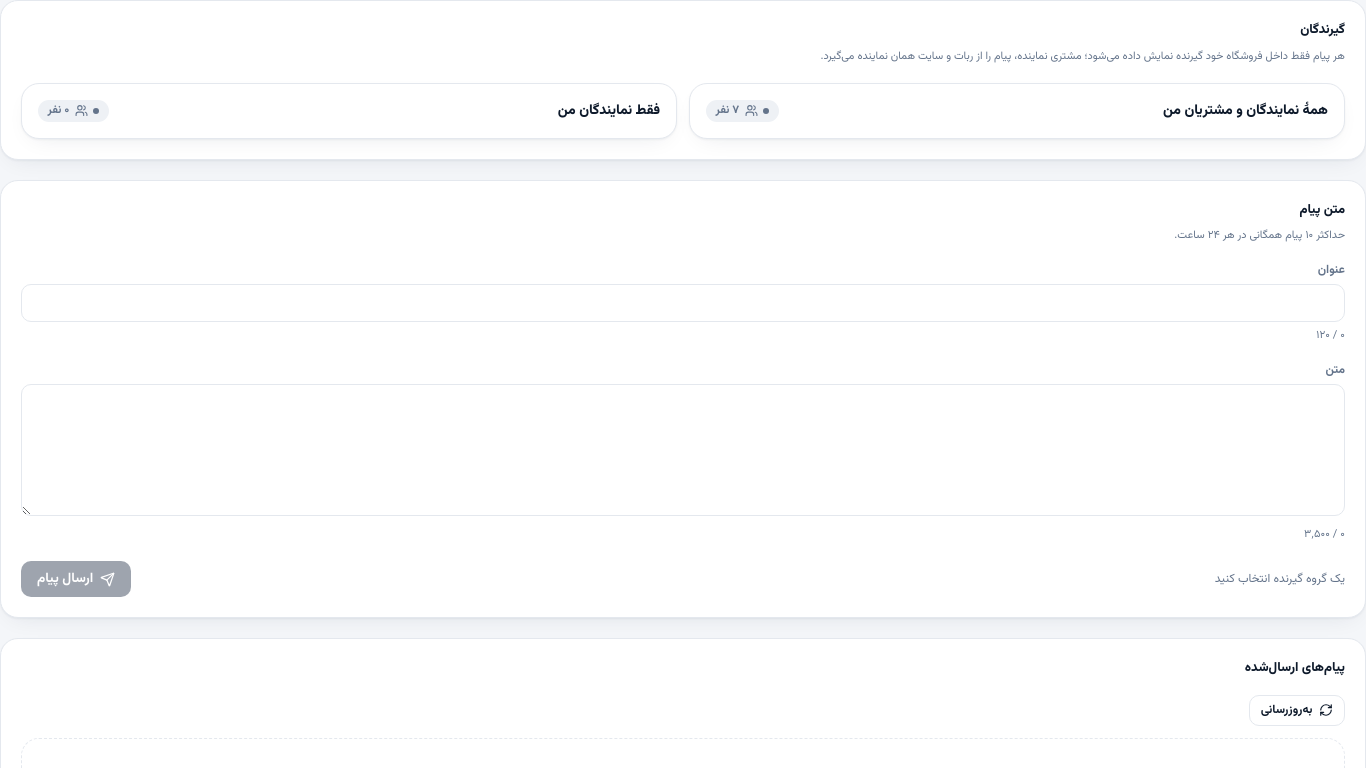
it: admin broadcast (پیام همگانی) › offers only the groups Core returns, with their reach, and keeps send disabled until all is filled
Check: the text "فقط نمایندگان من" is shown, box [558,100,660,120]
Check: the button "ارسال پیام" is disabled, box [21,561,131,597]
Click the radio button labelled "همهٔ نمایندگان و مشتریان من ۷ نفر" at (1246,111), box [689,82,1345,138]
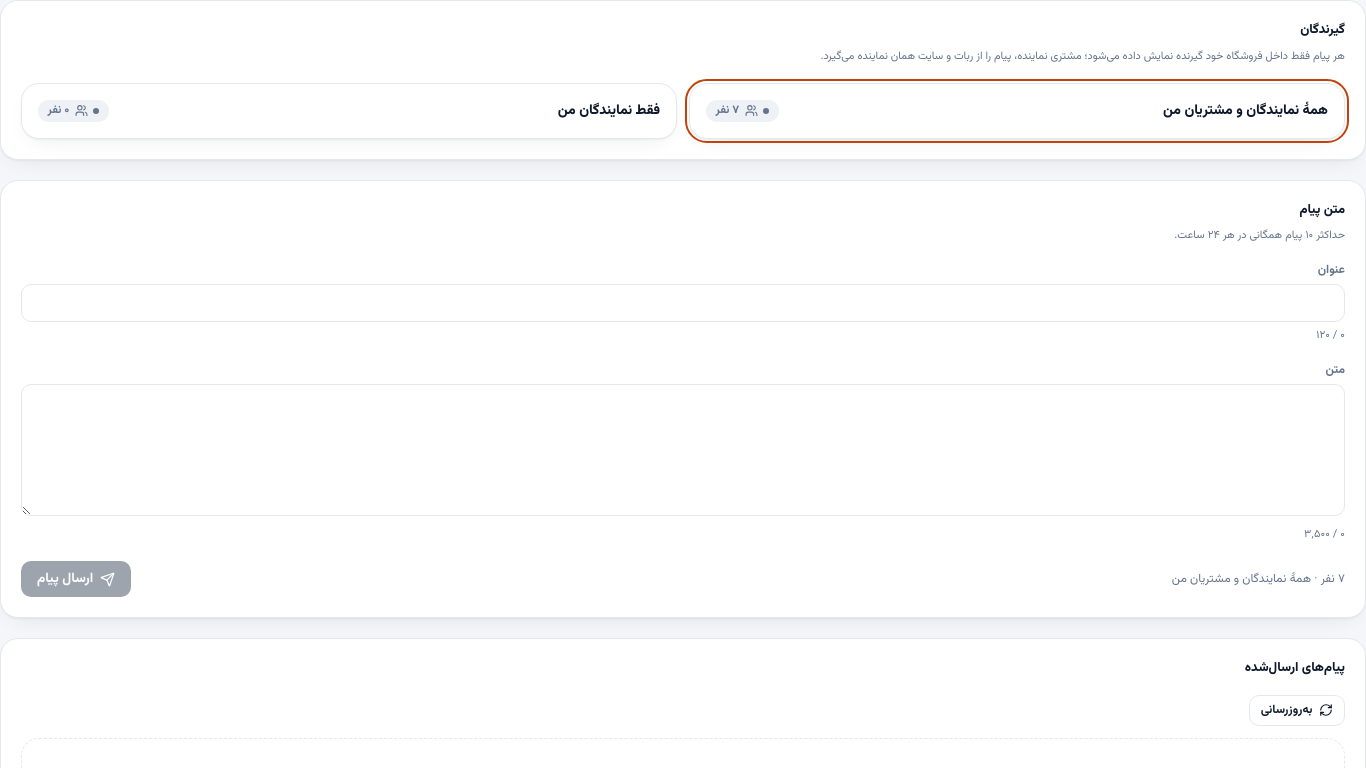
Type "سلام" into the field labelled "عنوان ۰ / ۱۲۰" at (683,303), box [21,284,1345,322]
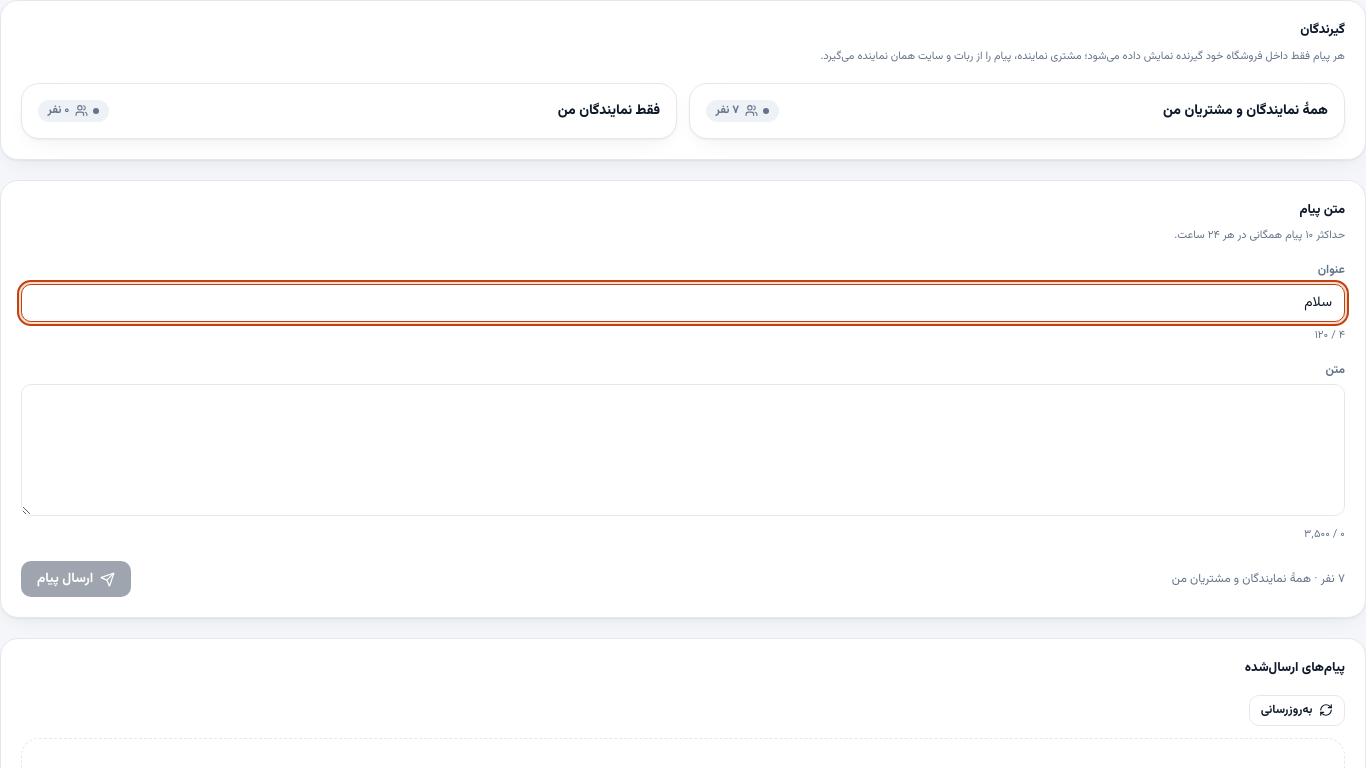
Type "متن پیام" into the text box labelled "متن ۰ / ۳٬۵۰۰" at (683,450), box [21,384,1345,516]
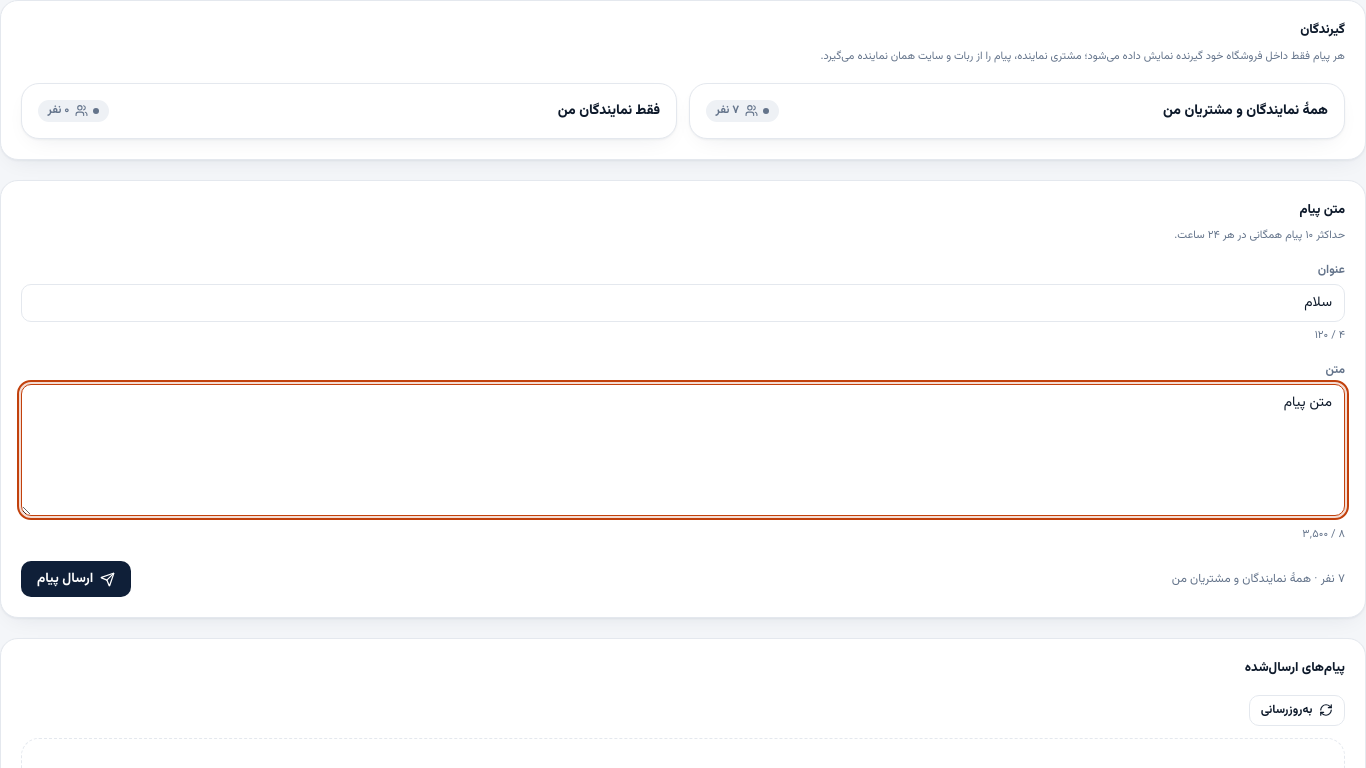
Check: the button "ارسال پیام" is enabled, box [21,561,131,597]
